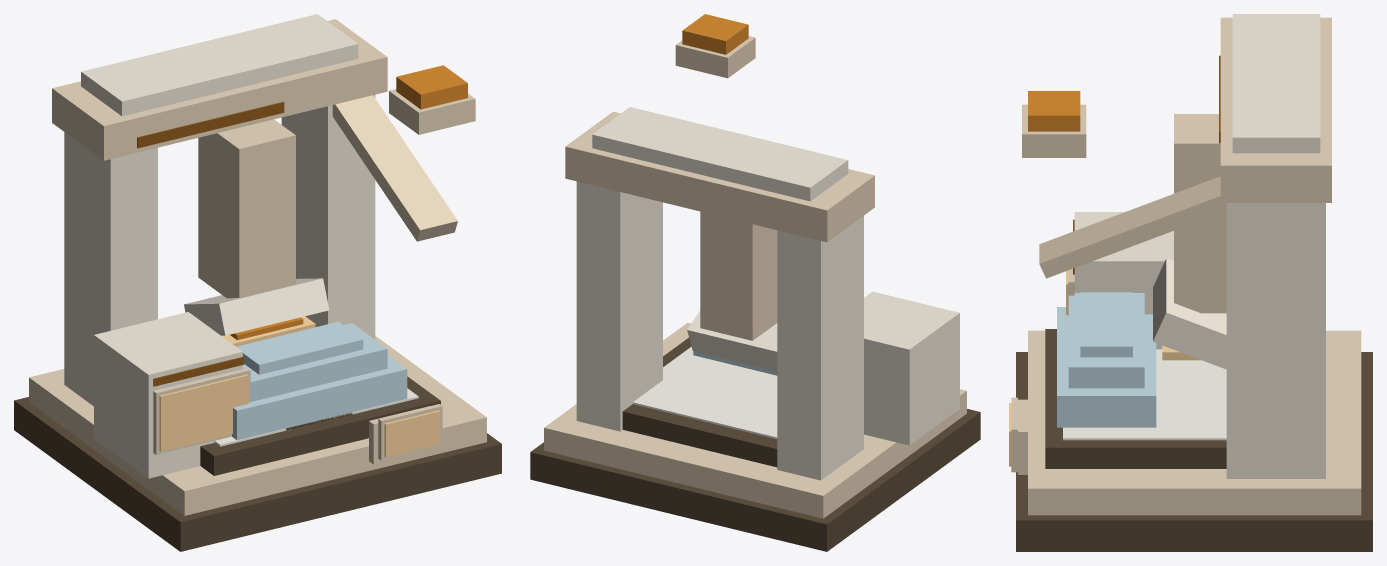
File: entry_stamp.obj
3 views of the same model, side by side, from view 1: azimuth 30°, elevation 25°; view 2: azimuth 150°, elevation 25°; view 3: azimuth 270°, elevation 25° (orthographic). The views are drawn at different scales.
Parts seen in each view (by area): view 1: entry_stamp_e04, entry_stamp_e00, entry_stamp_e09, entry_stamp_e05, entry_stamp_e01, entry_stamp_e07, entry_stamp_e06, entry_stamp_e22, entry_stamp_e13, entry_stamp_e19, entry_stamp_e02, entry_stamp_e24 (+13 smaller); view 2: entry_stamp_e04, entry_stamp_e05, entry_stamp_e00, entry_stamp_e01, entry_stamp_e06, entry_stamp_e22, entry_stamp_e07, entry_stamp_e09, entry_stamp_e03, entry_stamp_e02, entry_stamp_e10, entry_stamp_e14 (+1 smaller); view 3: entry_stamp_e05, entry_stamp_e01, entry_stamp_e00, entry_stamp_e07, entry_stamp_e06, entry_stamp_e09, entry_stamp_e03, entry_stamp_e13, entry_stamp_e02, entry_stamp_e19, entry_stamp_e22, entry_stamp_e10 (+6 smaller).
Boxes of the visible parts, x1,y1,x2,y2 form: entry_stamp_e04: [64, 132, 157, 406]; entry_stamp_e00: [14, 397, 501, 551]; entry_stamp_e09: [198, 119, 295, 298]; entry_stamp_e05: [281, 95, 375, 339]; entry_stamp_e01: [29, 336, 486, 515]; entry_stamp_e07: [81, 14, 358, 116]; entry_stamp_e06: [52, 19, 387, 160]; entry_stamp_e22: [94, 312, 242, 478]; entry_stamp_e13: [332, 95, 457, 241]; entry_stamp_e19: [232, 355, 407, 440]; entry_stamp_e02: [200, 376, 440, 475]; entry_stamp_e24: [159, 374, 248, 451]; entry_stamp_e04: [777, 216, 863, 480]; entry_stamp_e05: [576, 181, 662, 431]; entry_stamp_e00: [530, 409, 980, 551]; entry_stamp_e01: [544, 322, 966, 518]; entry_stamp_e06: [565, 111, 874, 242]; entry_stamp_e22: [864, 291, 959, 445]; entry_stamp_e07: [592, 107, 848, 201]; entry_stamp_e09: [700, 211, 777, 340]; entry_stamp_e03: [633, 346, 777, 439]; entry_stamp_e02: [622, 337, 777, 467]; entry_stamp_e10: [687, 310, 777, 371]; entry_stamp_e14: [675, 36, 755, 78]; entry_stamp_e05: [1226, 203, 1325, 478]; entry_stamp_e01: [1028, 330, 1361, 515]; entry_stamp_e00: [1016, 352, 1372, 551]; entry_stamp_e07: [1232, 14, 1320, 153]; entry_stamp_e06: [1220, 17, 1331, 202]; entry_stamp_e09: [1174, 114, 1226, 313]; entry_stamp_e03: [1063, 349, 1226, 440]; entry_stamp_e13: [1039, 176, 1226, 278]; entry_stamp_e02: [1045, 329, 1226, 468]; entry_stamp_e19: [1057, 307, 1156, 427]; entry_stamp_e22: [1074, 212, 1173, 349]; entry_stamp_e10: [1153, 258, 1226, 369].
Bounding box in the file's own units: 0.8625 × 0.9937 × 0.7775.
